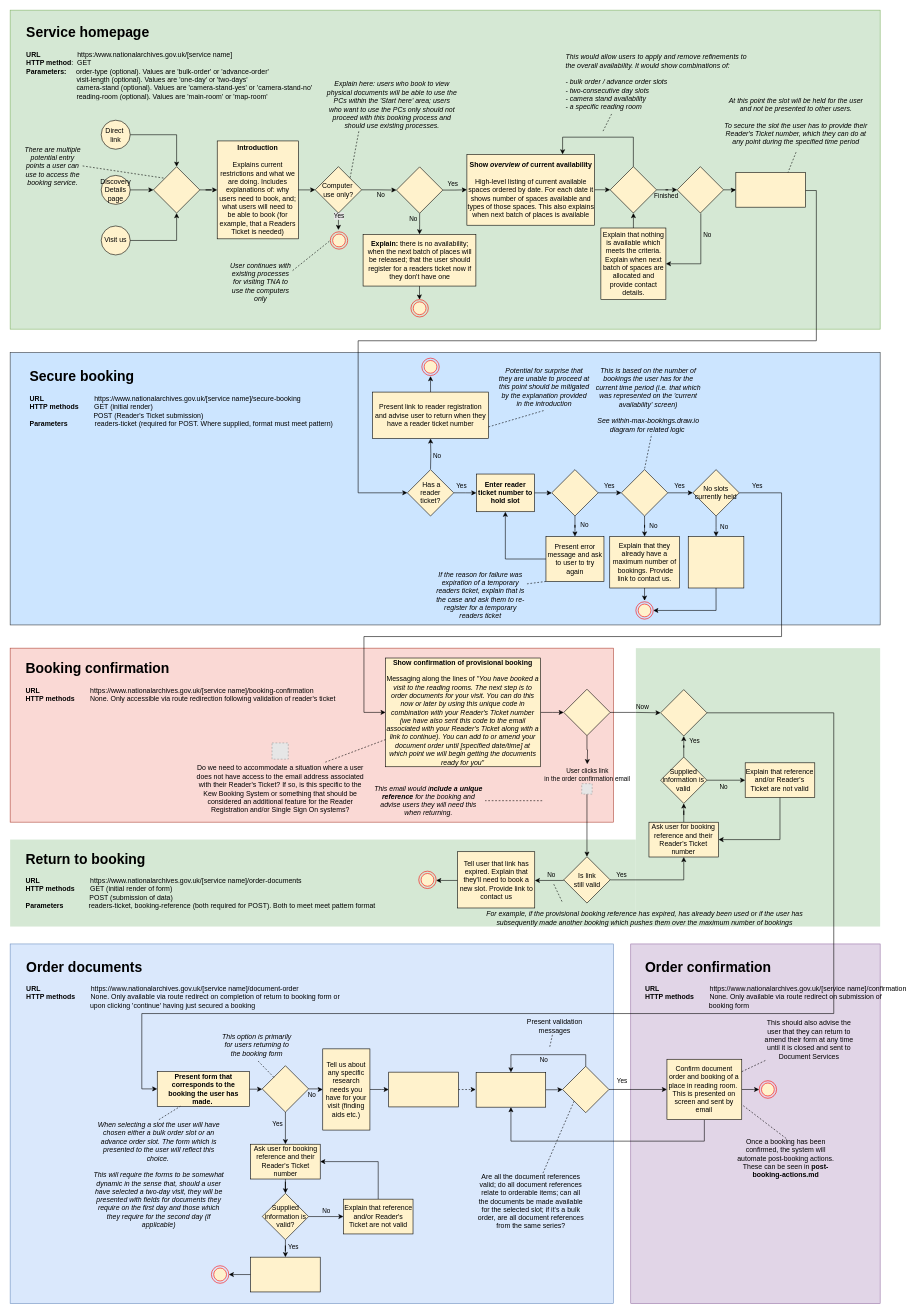
Image size: 919x1314. Some labels were removed from this diagram. Grey dashed boxes stand in for pictures. The centre of each missing label's shape, as x and y in pixels:
Add document refrences and submit form: point (511, 1089)
All is OK: point (585, 1089)
Cancel booking?: point (285, 1088)
Confirm cancellation: point (285, 1274)
Continue: point (586, 712)
Do you have accessibility needs for your visit?: point (423, 1089)
Explain they currently have a slot held and should check their email to continue: point (716, 562)
Is there availability?: point (419, 189)
Option available: point (700, 189)
Refine view: point (633, 189)
Selects a slot to hold (for a specified time period): point (770, 189)
Valid reader ticket number: point (574, 492)
Within max bookings: point (644, 492)
